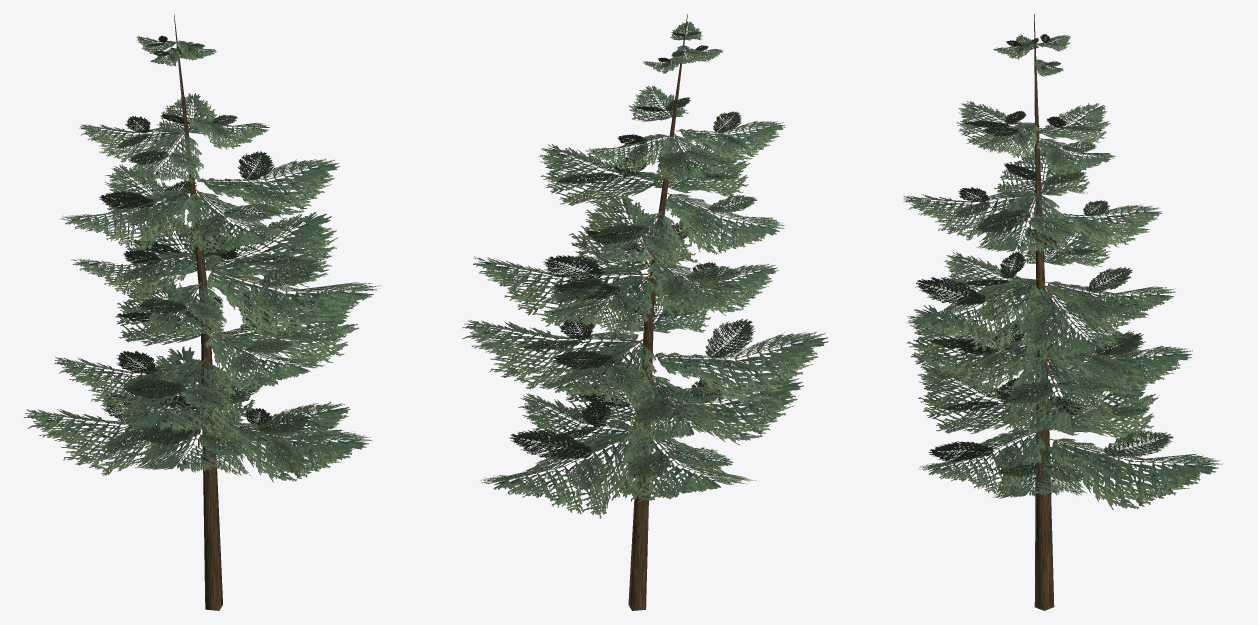
File: Pine.glb
3 renders of one model, left to right at view 1: azimuth 30°, elevation 25°; view 2: azimuth 150°, elevation 25°; view 3: azimuth 270°, elevation 25°, orthographic. The views are drawn at different scales.
Parts seen in each view (by area): view 1: Pine; view 2: Pine; view 3: Pine.
Boxes of the visible parts, x1,y1,x2,y2 form: Pine: (24,14,380,610); Pine: (462,14,828,610); Pine: (903,14,1222,610).
Size of the model in its own units: 0.6004 by 1.01 by 0.6006.
1 material, 1 textured.
